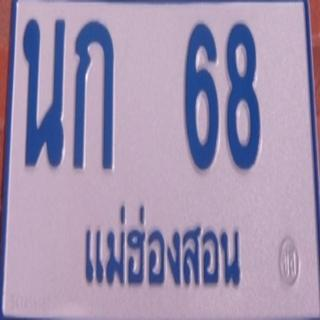A01: (70, 15, 122, 177)
A25: (16, 14, 69, 170)
N06: (179, 16, 221, 175)
N08: (223, 18, 269, 177)
P24: (76, 199, 248, 295)
